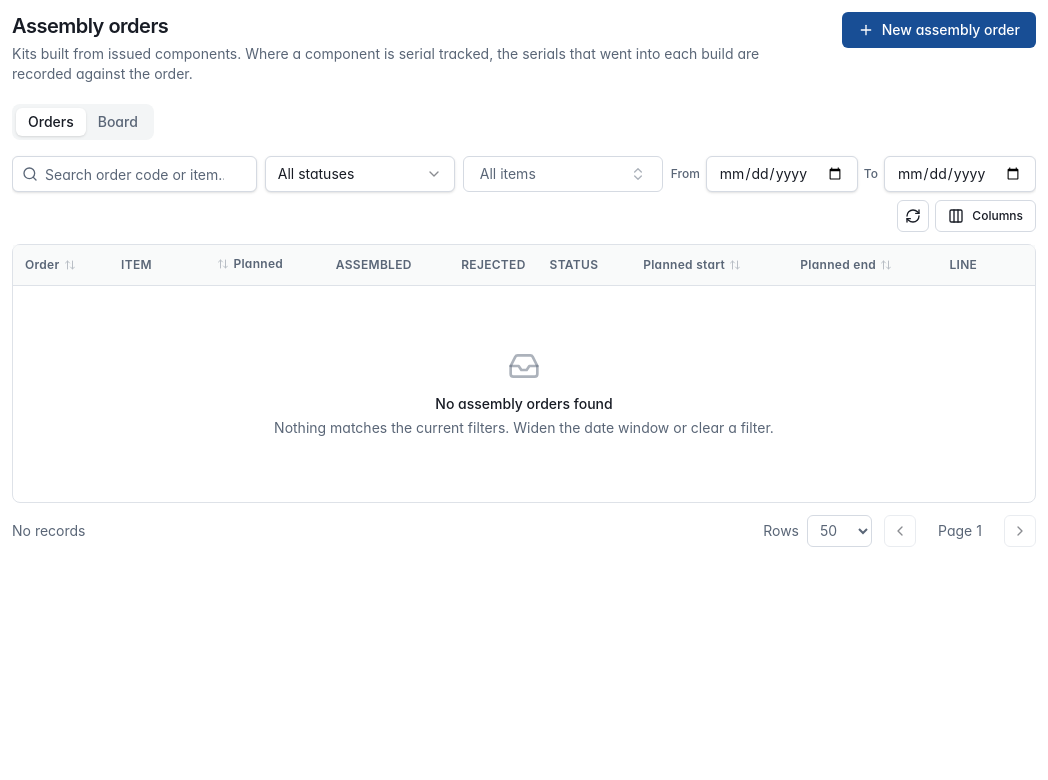
Test: the assembly board › counts the load per line without counting the rows below it
Click the tab "Board".
click(118, 122)  # box [86,108,150,136]
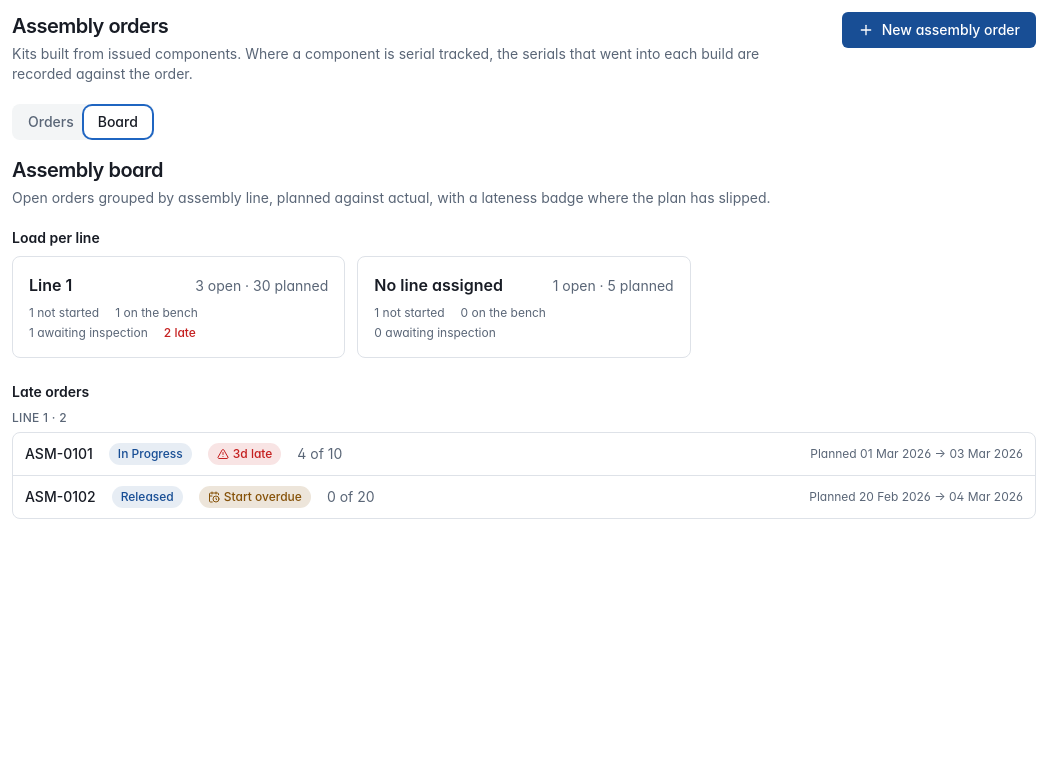
Expected: the text "Line 1" is shown, [29,273,72,297]
Expected: the text "3 open · 30 planned" is shown, [195,276,328,296]
Expected: the text "No line assigned" is shown, [374,273,503,297]
